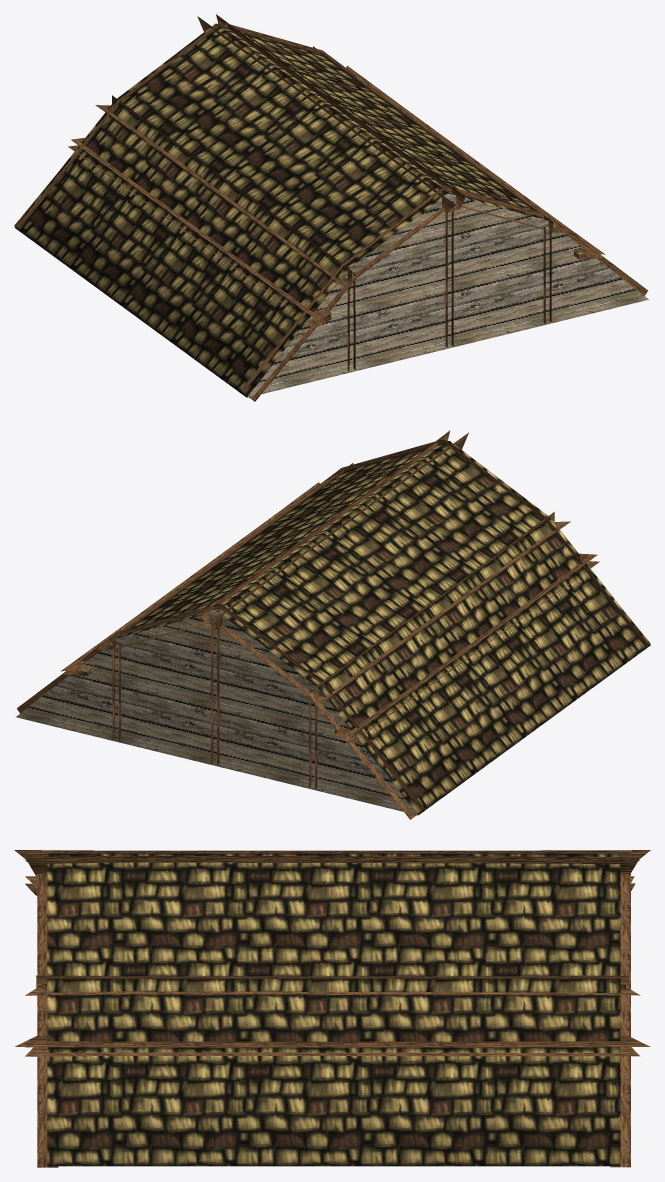
Rendered from LAKETOWN_WAREHOUSE3_PS_WH3_ROOF2_383__GX.fbx.
3 views of the same model, one above another, from view 1: azimuth 30°, elevation 25°; view 2: azimuth 150°, elevation 25°; view 3: azimuth 270°, elevation 25° (orthographic). The views are drawn at different scales.
Parts seen in each view (by area): view 1: LAKETOWN_WAREHOUSE3_PS_WH3_ROOF2_383__GX; view 2: LAKETOWN_WAREHOUSE3_PS_WH3_ROOF2_383__GX; view 3: LAKETOWN_WAREHOUSE3_PS_WH3_ROOF2_383__GX.
Boxes of the visible parts, x1=… form: LAKETOWN_WAREHOUSE3_PS_WH3_ROOF2_383__GX: x1=14, y1=14, x2=648, y2=401; LAKETOWN_WAREHOUSE3_PS_WH3_ROOF2_383__GX: x1=16, y1=430, x2=650, y2=819; LAKETOWN_WAREHOUSE3_PS_WH3_ROOF2_383__GX: x1=14, y1=850, x2=650, y2=1167.
Bounding box in the file's own units: 161440 × 61314 × 177021.
4 materials, 4 textured.
